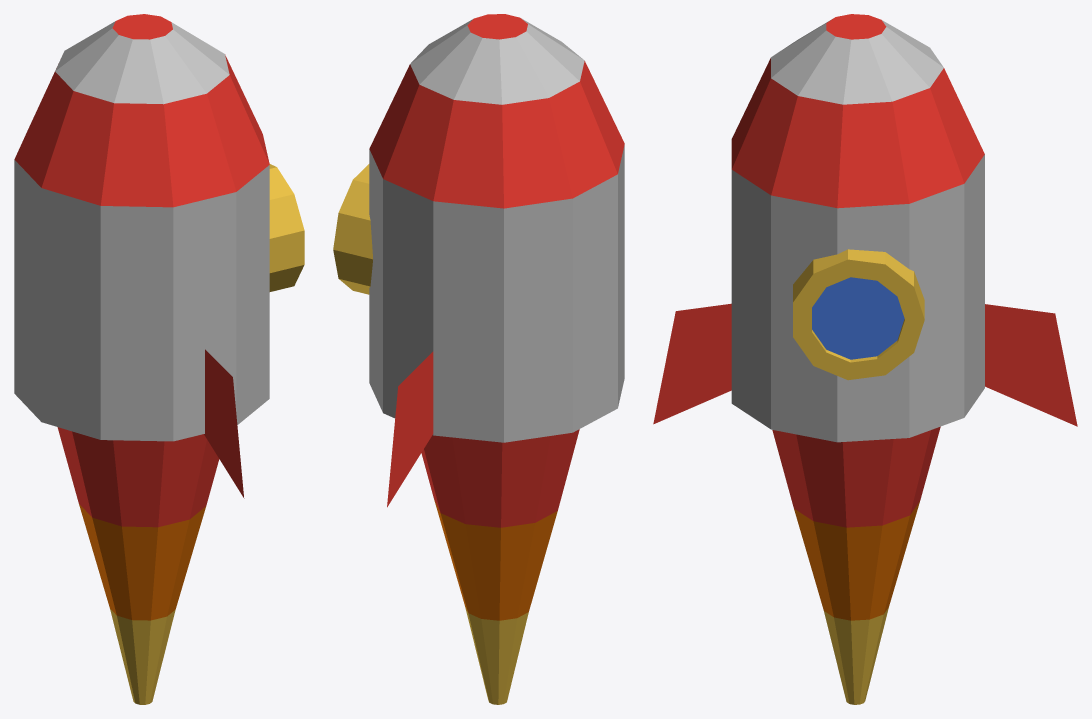
File: foguete.glb
3 renders of one model, left to right at view 1: azimuth 30°, elevation 25°; view 2: azimuth 150°, elevation 25°; view 3: azimuth 270°, elevation 25°, orthographic.
Visible parts, largest first — view 1: Cylinder; view 2: Cylinder; view 3: Cylinder.
Boxes of the visible parts, left/top/right/bottom form: Cylinder: left=14, top=14, right=304, bottom=704; Cylinder: left=333, top=14, right=624, bottom=704; Cylinder: left=653, top=14, right=1077, bottom=704.
Size of the model in its own units: 2.15 by 5.76 by 3.29.
